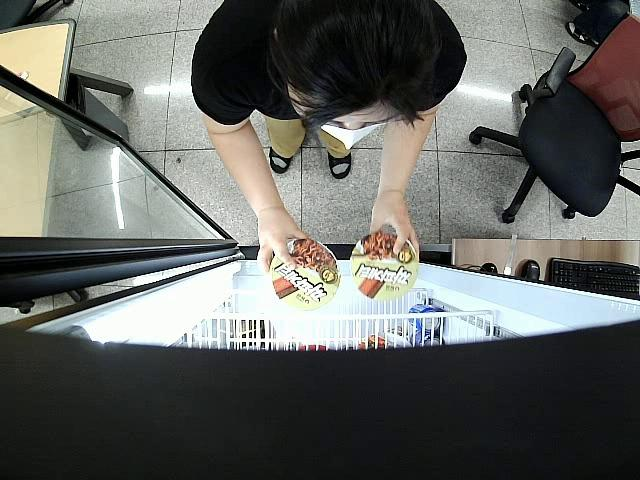00_hand: (369, 198, 420, 267), (256, 217, 313, 269)
03_chapagetti_L: (270, 237, 339, 311), (349, 233, 419, 302)
